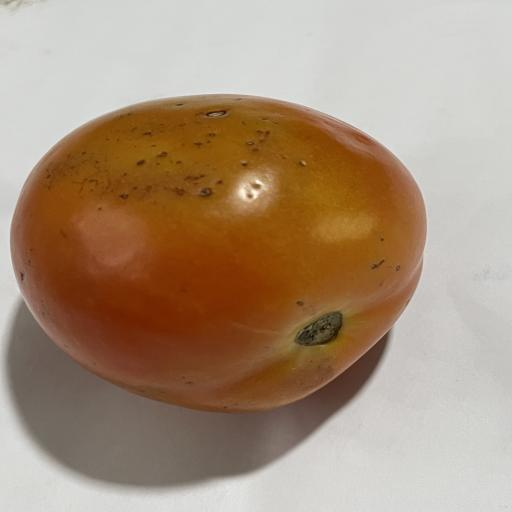unripe: (11, 95, 425, 412)
